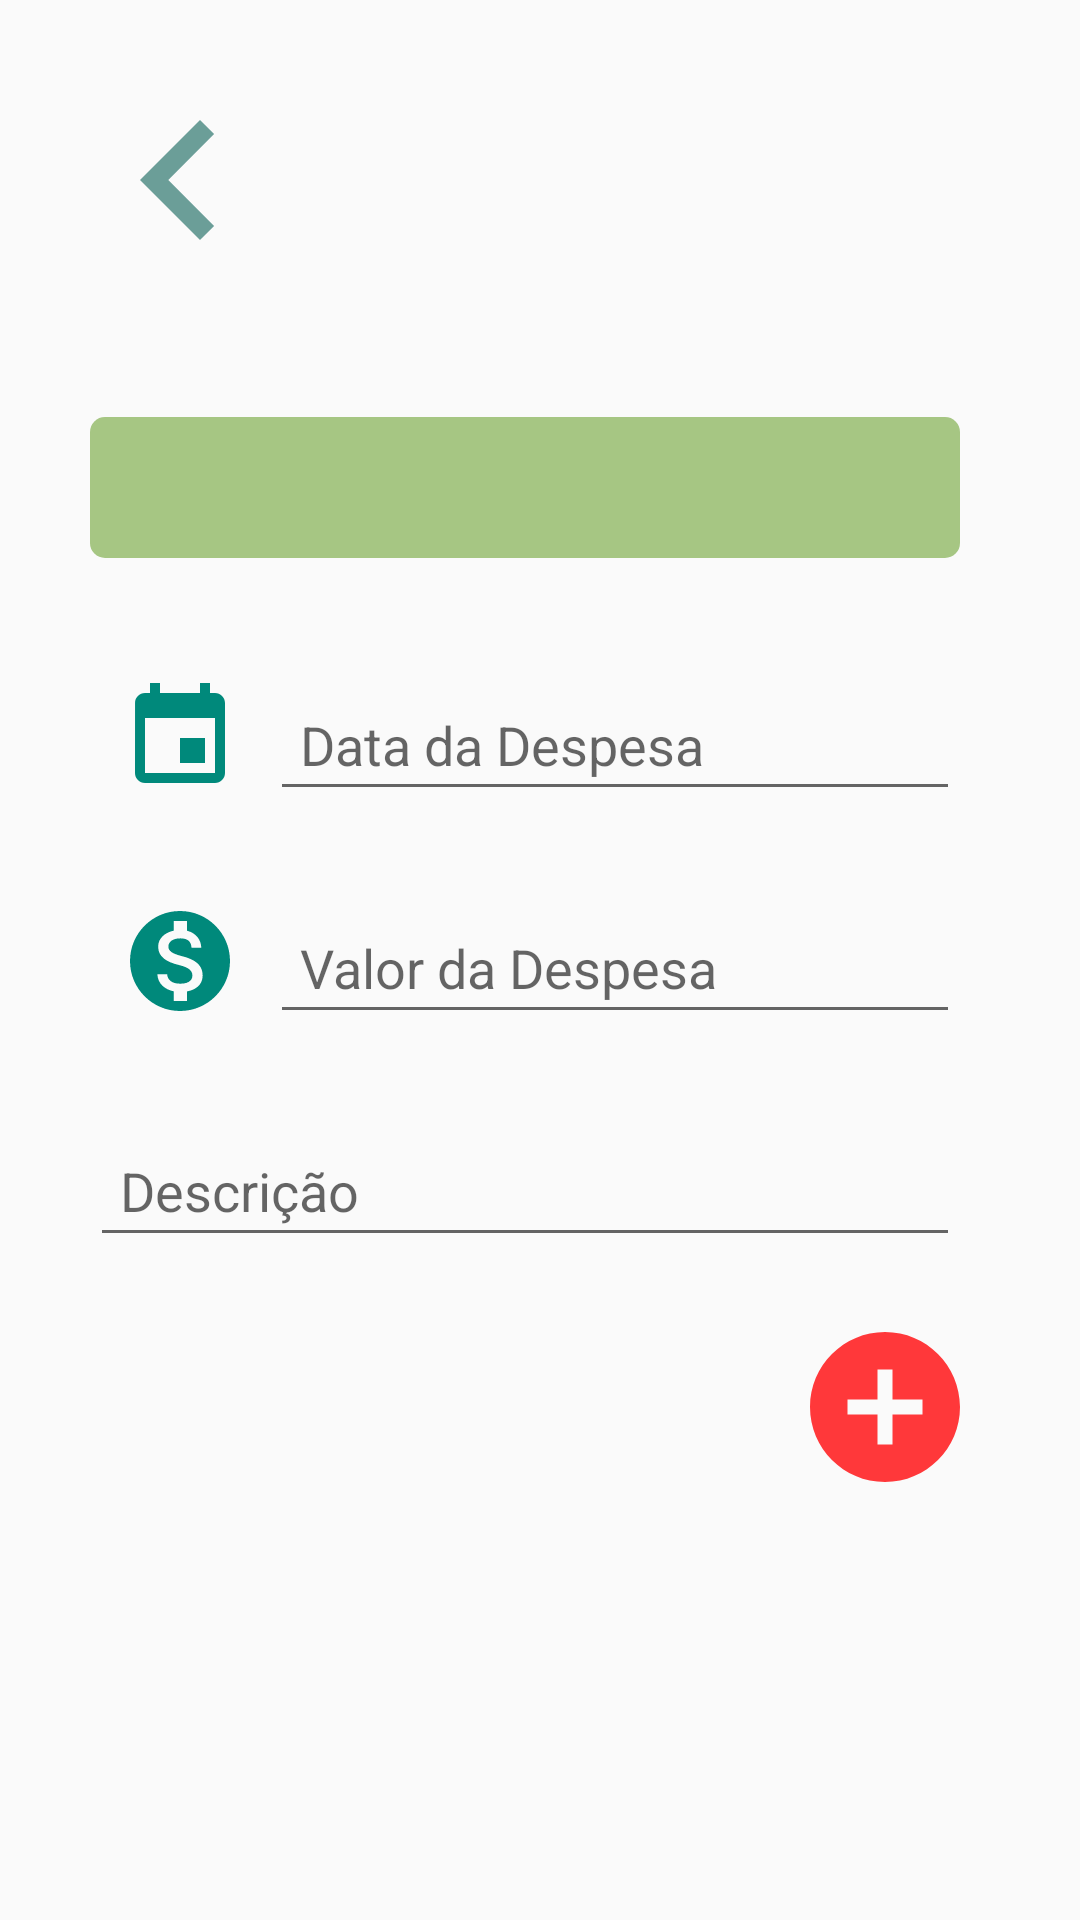

Where icons sit on this 1080×1920 app screen, as {"left": x1, "top": y1, "right": x2, "bottom": y2}:
adicionar despesa: {"left": 810, "top": 1332, "right": 960, "bottom": 1482}
calendario: {"left": 135, "top": 683, "right": 225, "bottom": 783}
money: {"left": 130, "top": 911, "right": 230, "bottom": 1011}
navigate before: {"left": 140, "top": 120, "right": 214, "bottom": 240}
